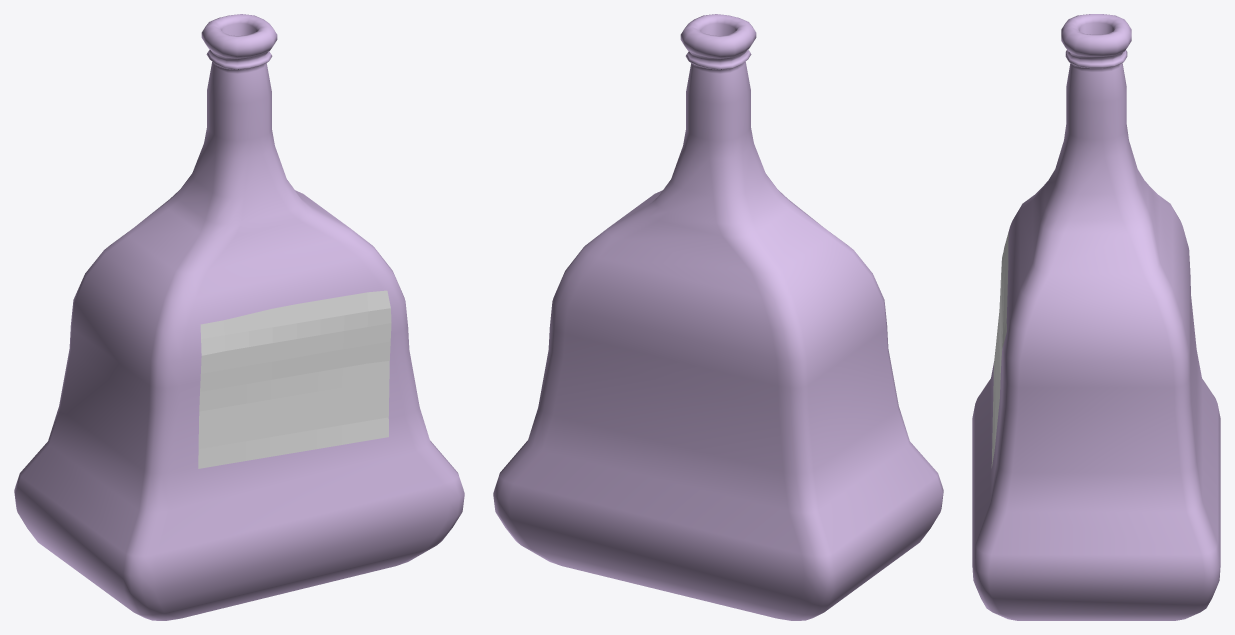
File: Bottle_5.fbx
3 renders of one model, left to right at view 1: azimuth 30°, elevation 25°; view 2: azimuth 150°, elevation 25°; view 3: azimuth 270°, elevation 25°, orthographic.
Visible parts, largest first — view 1: Bottle_5 - HallowedVeilVodka; view 2: Bottle_5 - HallowedVeilVodka; view 3: Bottle_5 - HallowedVeilVodka.
Boxes of the visible parts, bbox=[...] form: Bottle_5 - HallowedVeilVodka: bbox=[14, 14, 464, 620]; Bottle_5 - HallowedVeilVodka: bbox=[493, 14, 943, 620]; Bottle_5 - HallowedVeilVodka: bbox=[972, 14, 1220, 620].
Size of the model in its own units: 20.46 by 31.44 by 12.94.
